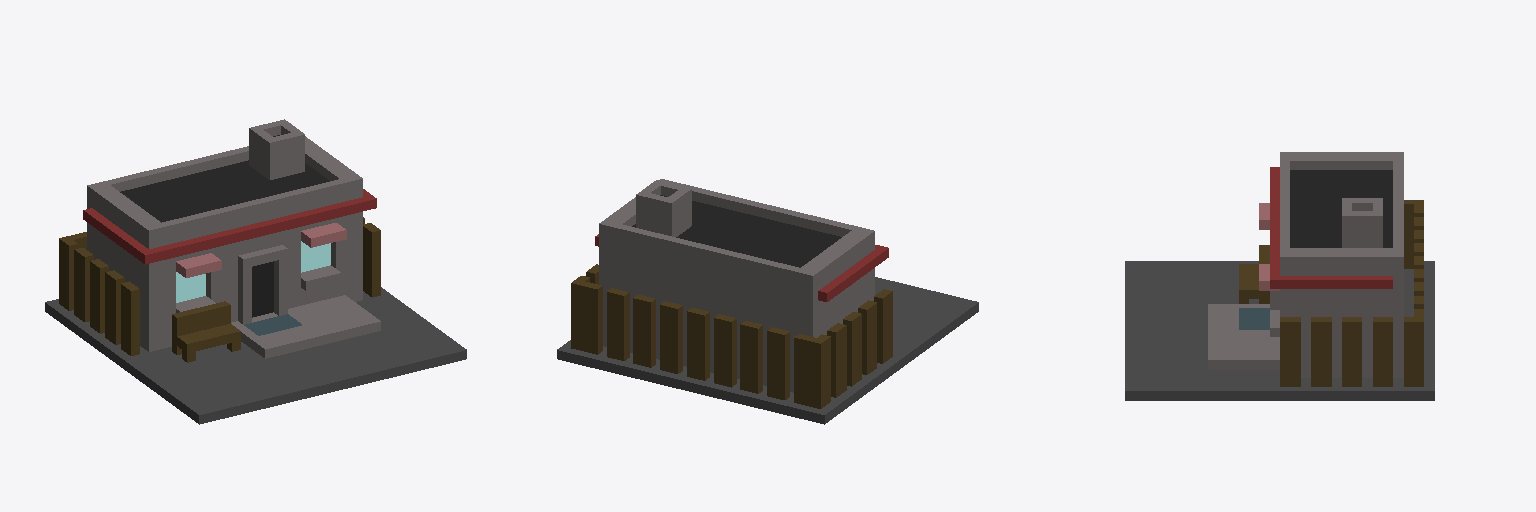
3 renders of one model, left to right at view 1: azimuth 30°, elevation 25°; view 2: azimuth 150°, elevation 25°; view 3: azimuth 270°, elevation 25°, orthographic.
Bounding box in the file's own units: 30 × 17 × 30.
Materials: 1 (1 with a texture image).